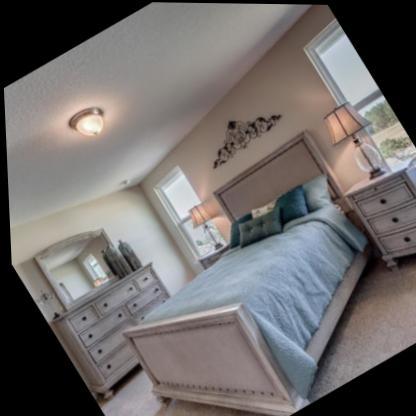Bed: (119, 132, 371, 416)
Nightstand: (345, 164, 416, 272)
Sideboard: (48, 263, 169, 396)
